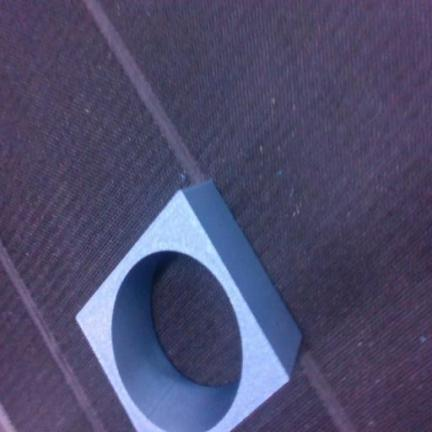hole: (76, 181, 300, 431)
